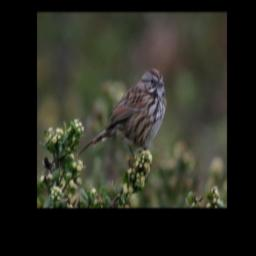Sparrow: (76, 67, 170, 170)
